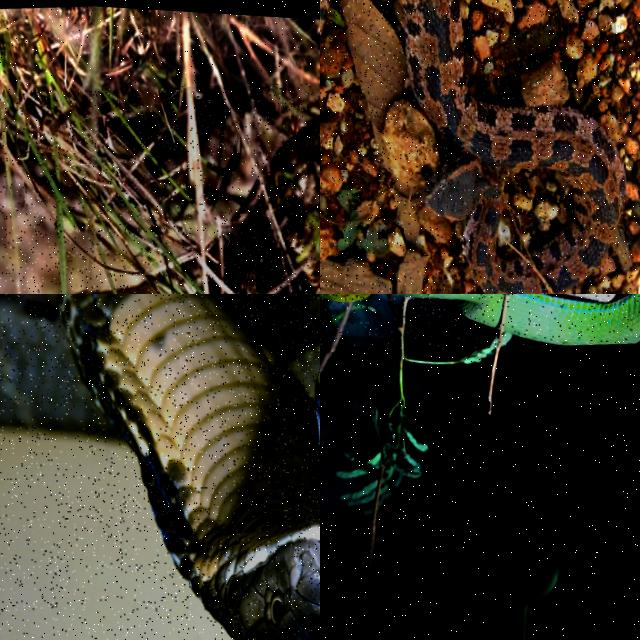Ophiophagus hannah: (0, 294, 319, 639)
Ovophis monticola: (398, 0, 625, 293)
Python bivittatus: (220, 119, 319, 293)
Trimeresurus macrops: (504, 294, 639, 343)
